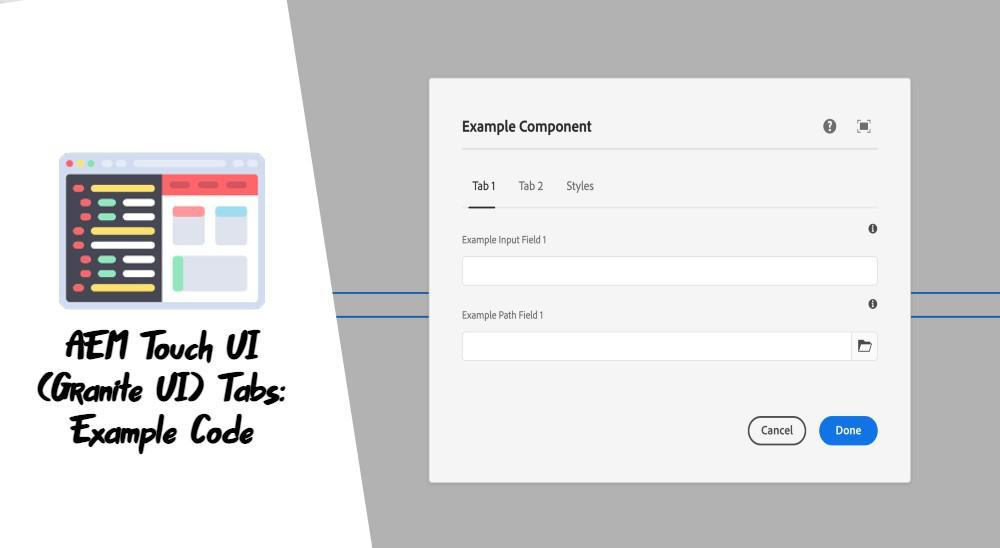button: (819, 416, 880, 447), (749, 417, 808, 448)
icon: (856, 119, 874, 136), (857, 336, 873, 355), (824, 117, 839, 137), (868, 219, 881, 238), (869, 296, 881, 316)
input: (463, 257, 879, 287), (464, 332, 853, 361)
label: (463, 235, 548, 249), (462, 309, 545, 322)
